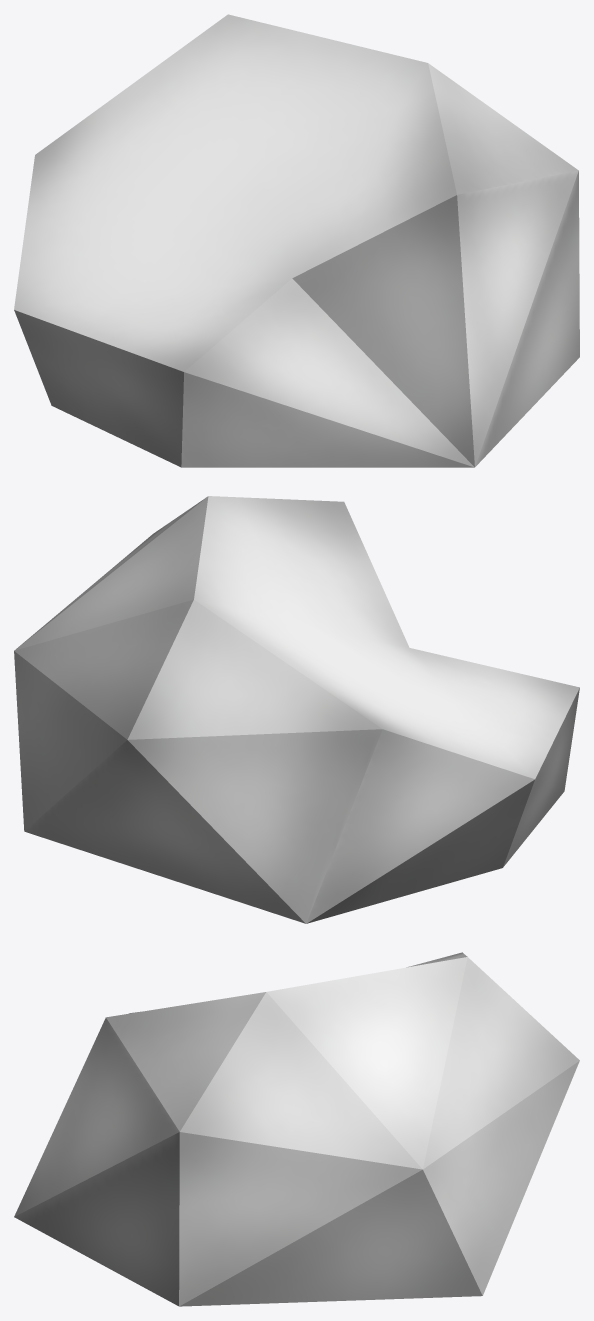
File: p_rock02.fbx
3 views of the same model, one above another, from view 1: azimuth 30°, elevation 25°; view 2: azimuth 150°, elevation 25°; view 3: azimuth 270°, elevation 25° (orthographic). The views are drawn at different scales.
Visible parts, largest first — view 1: p_rock02, p_rock011; view 2: p_rock02, p_rock011; view 3: p_rock02.
Part boxes in pixels (x1,y1,x2,y2): p_rock02: (14,14,579,467); p_rock011: (16,16,288,309); p_rock02: (14,496,579,923); p_rock011: (198,601,532,777); p_rock02: (14,952,579,1306).
Size of the model in its own units: 34.63 by 19.03 by 36.34.
